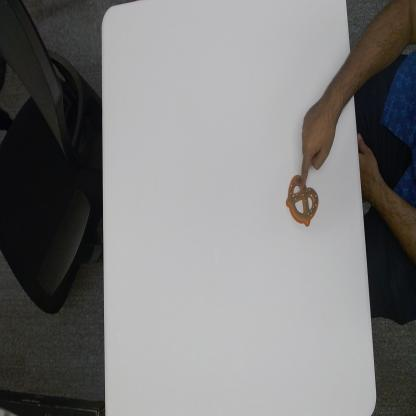Hand: (297, 90, 336, 194)
Pretzel: (283, 166, 321, 229)
